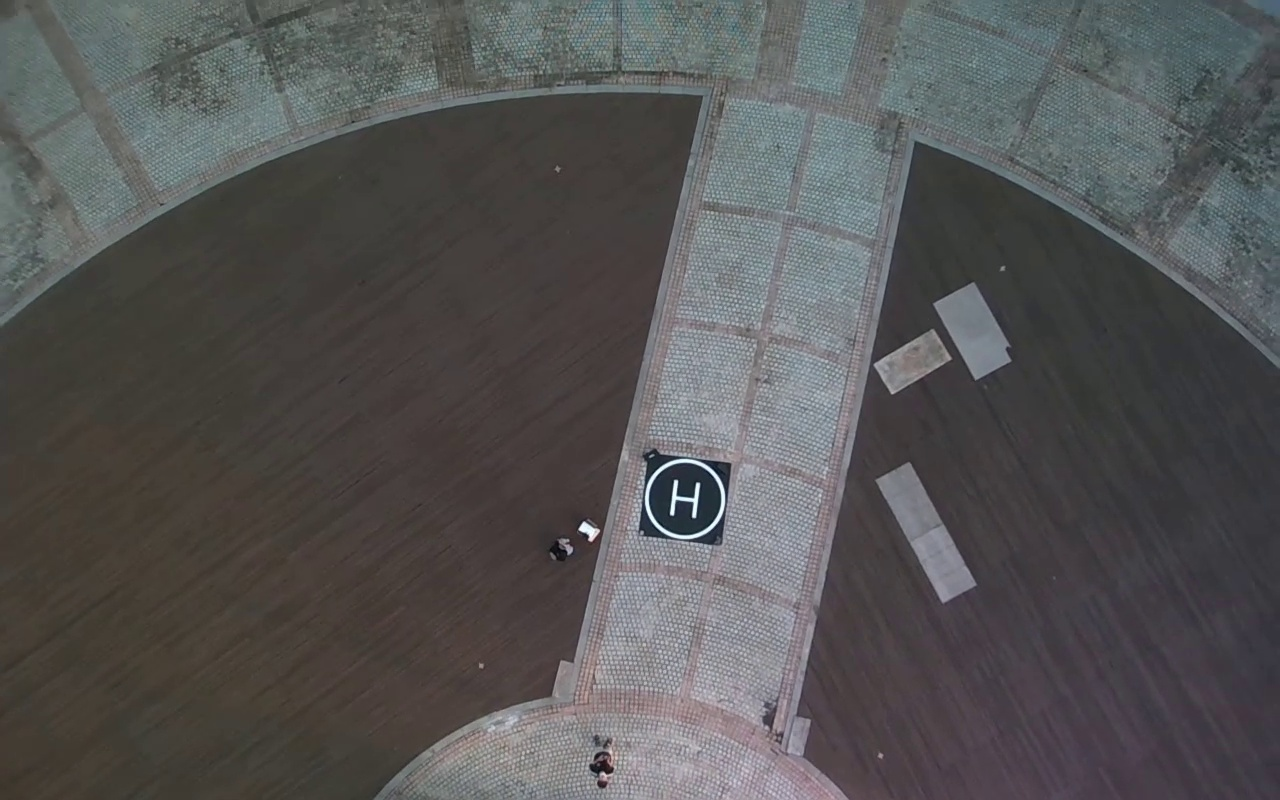H: (669, 477, 700, 519)
heliport: (644, 458, 726, 539)
